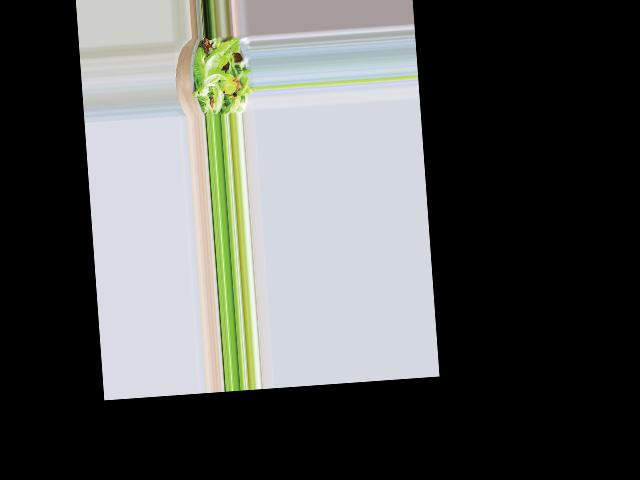lettuce: (191, 42, 250, 112)
